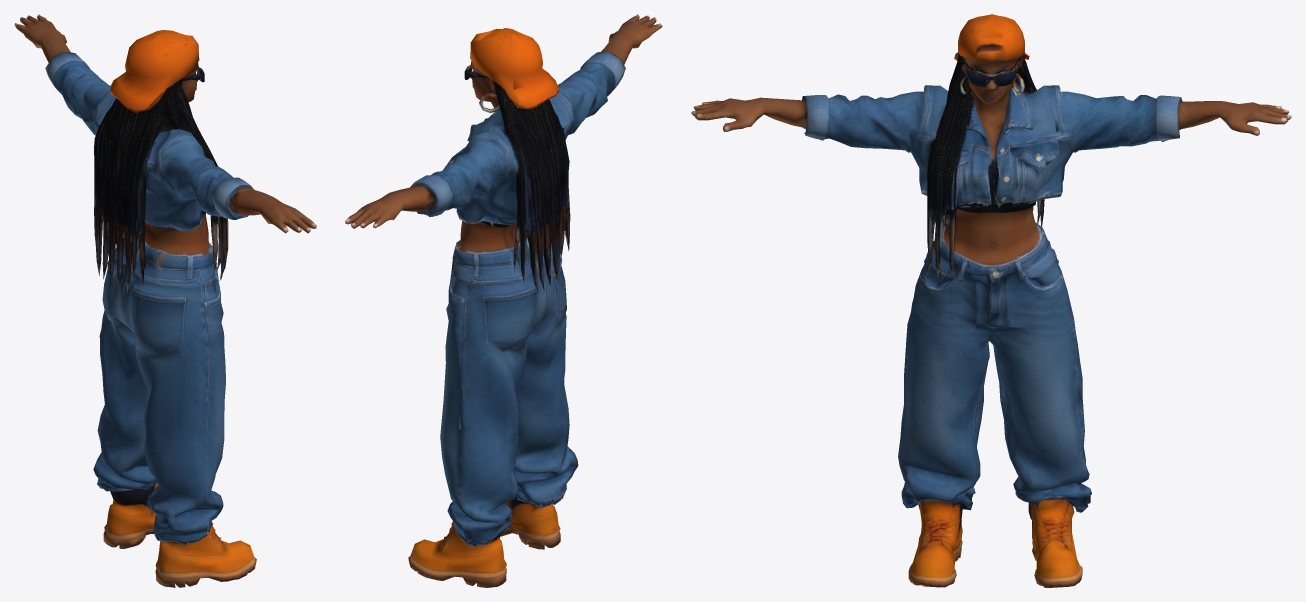
File: fashionmodel3dmodel3.glb
The picture shows the model from 3 angles, left to right: view 1: azimuth 30°, elevation 25°; view 2: azimuth 150°, elevation 25°; view 3: azimuth 270°, elevation 25°; orthographic projection. The views are drawn at different scales.
Parts seen in each view (by area): view 1: tripo_node_eff50f95-b2ca-47bc-85bc-70d4e39c60c4; view 2: tripo_node_eff50f95-b2ca-47bc-85bc-70d4e39c60c4; view 3: tripo_node_eff50f95-b2ca-47bc-85bc-70d4e39c60c4.
Boxes of the visible parts, x1,y1,x2,y2 form: tripo_node_eff50f95-b2ca-47bc-85bc-70d4e39c60c4: (14,14,316,587); tripo_node_eff50f95-b2ca-47bc-85bc-70d4e39c60c4: (345,14,662,587); tripo_node_eff50f95-b2ca-47bc-85bc-70d4e39c60c4: (691,14,1291,587).
Size of the model in its own units: 0.2161 by 0.9772 by 0.9772.
1 material, 1 textured.
